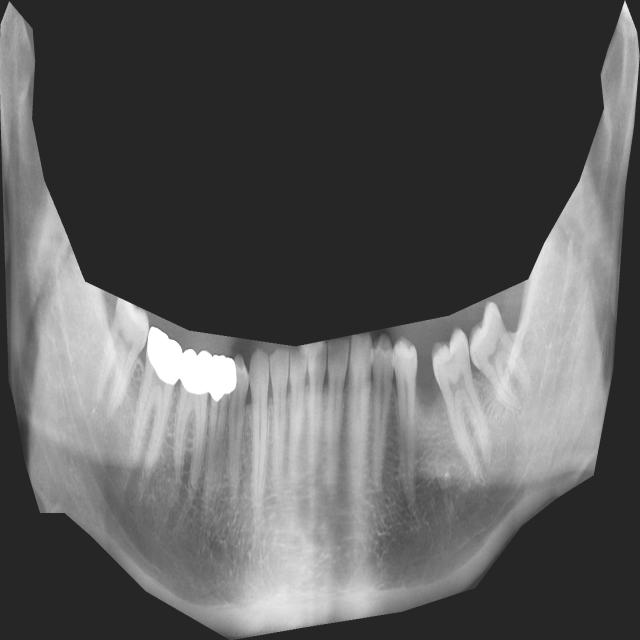mandibula: (0, 0, 640, 640)
